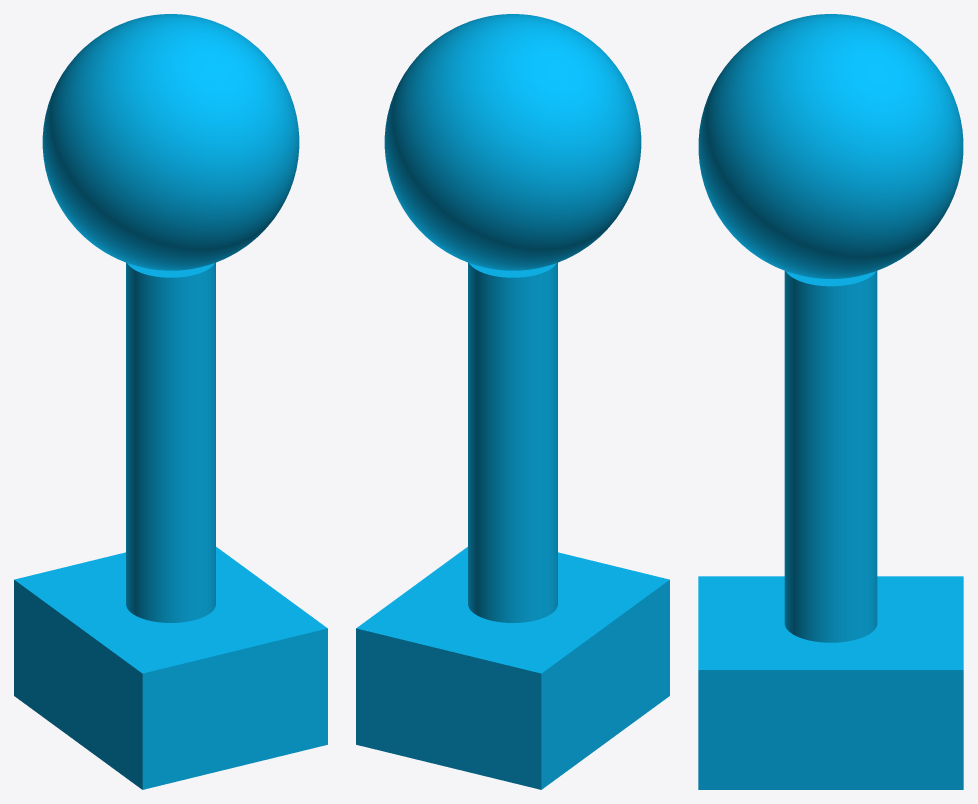
The model's file is workplane-9.gltf.
3 renders of one model, left to right at view 1: azimuth 30°, elevation 25°; view 2: azimuth 150°, elevation 25°; view 3: azimuth 270°, elevation 25°, orthographic. The views are drawn at different scales.
Parts seen in each view (by area): view 1: Open CASCADE STEP translator 7.8 86.1, Open CASCADE STEP translator 7.8 86.2; view 2: Open CASCADE STEP translator 7.8 86.1, Open CASCADE STEP translator 7.8 86.2; view 3: Open CASCADE STEP translator 7.8 86.1, Open CASCADE STEP translator 7.8 86.2.
Part boxes in pixels (<box>): Open CASCADE STEP translator 7.8 86.1: <box>14,262,327,789</box>; Open CASCADE STEP translator 7.8 86.2: <box>42,14,299,270</box>; Open CASCADE STEP translator 7.8 86.1: <box>356,262,669,789</box>; Open CASCADE STEP translator 7.8 86.2: <box>384,14,641,270</box>; Open CASCADE STEP translator 7.8 86.1: <box>698,271,963,789</box>; Open CASCADE STEP translator 7.8 86.2: <box>698,14,963,278</box>.
Size of the model in its own units: 0.03 by 0.0895 by 0.03.
